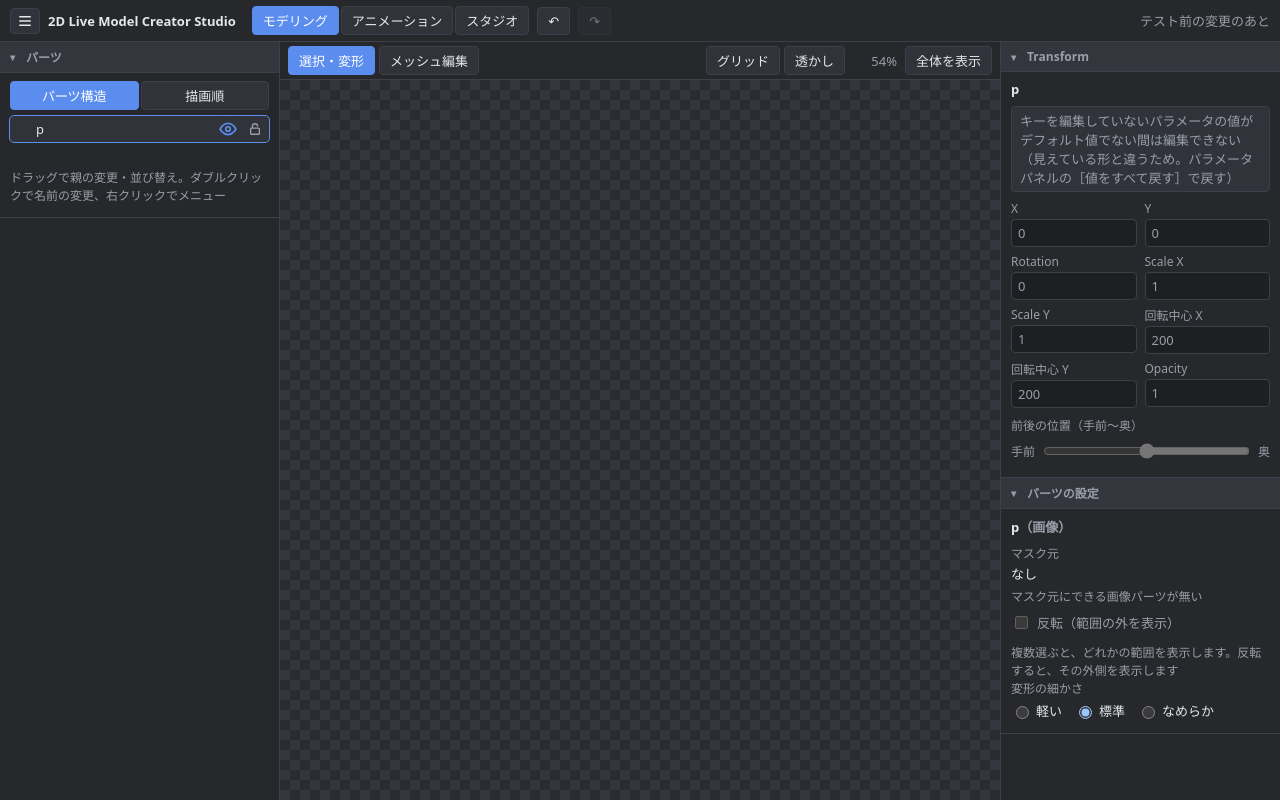
Scenario: カード61: 「軽い」を選ぶときのずれの量 › 取り消すと、メッシュ・キー・Undo の履歴を変えない（キャンセルのボタンでも Esc でも）
# キャンセルのボタン
Step 1. Click the radio button labelled "軽い" → (1022, 712), box [1016,706,1029,718]
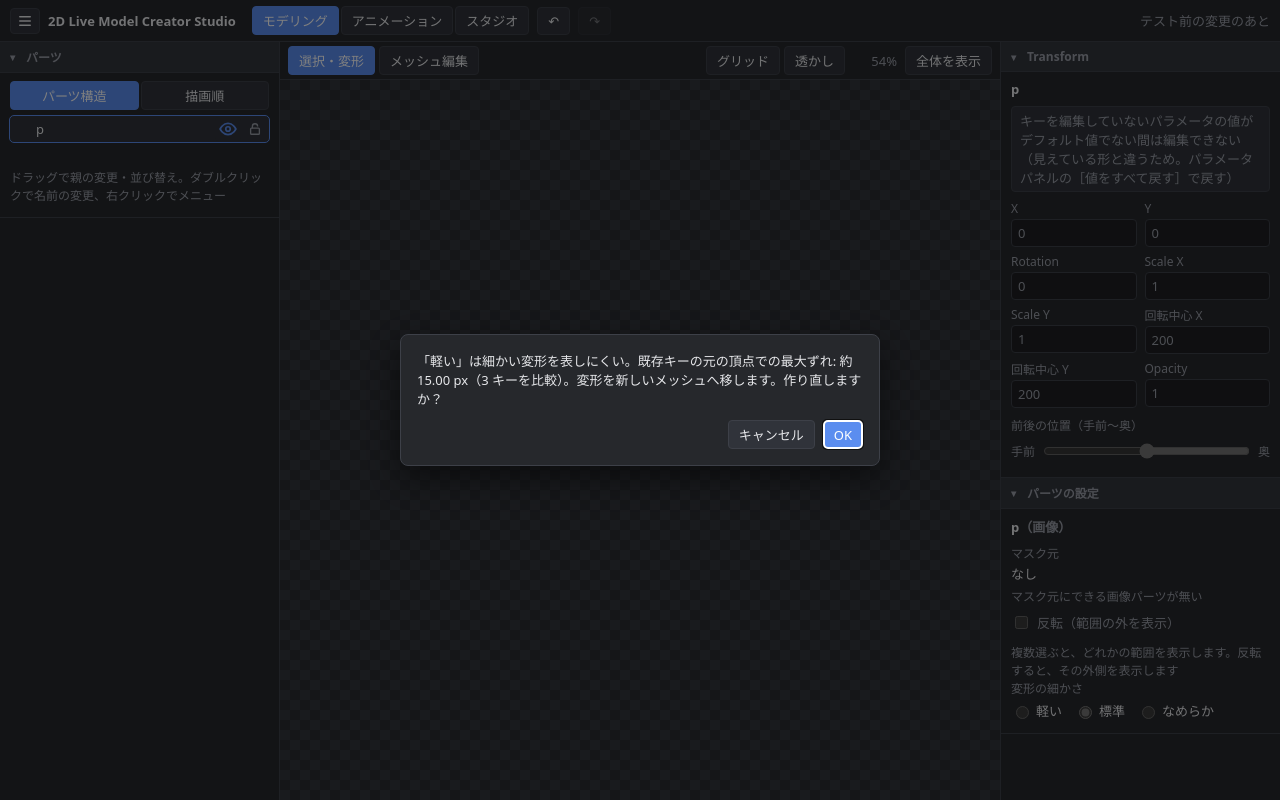
Step 2. Click the button "キャンセル" → (771, 434), box [728,420,815,449]
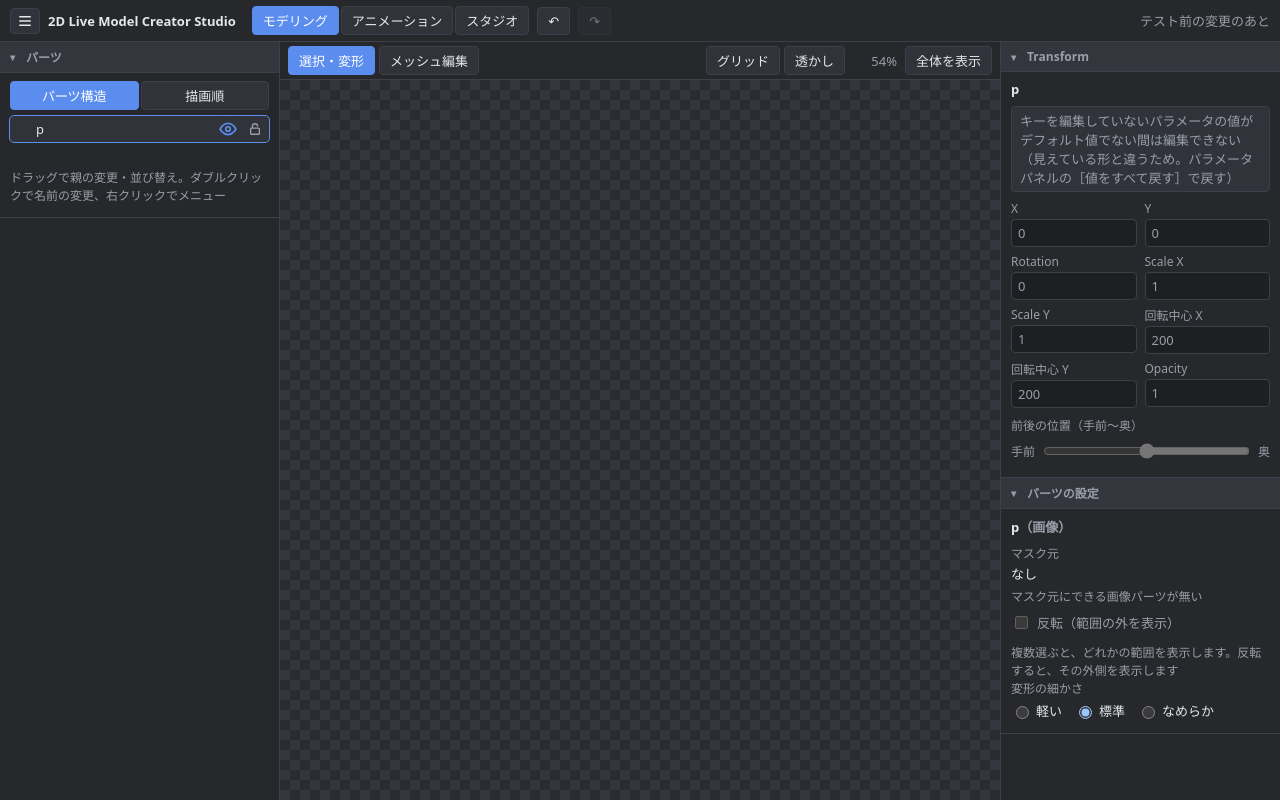
Expected: the radio button labelled "軽い" is enabled
Expected: the dialog is gone
# Esc（もう一度選ぶと、同じずれが出る）
Step 3. Click the radio button labelled "軽い" → (1022, 712), box [1016,706,1029,718]
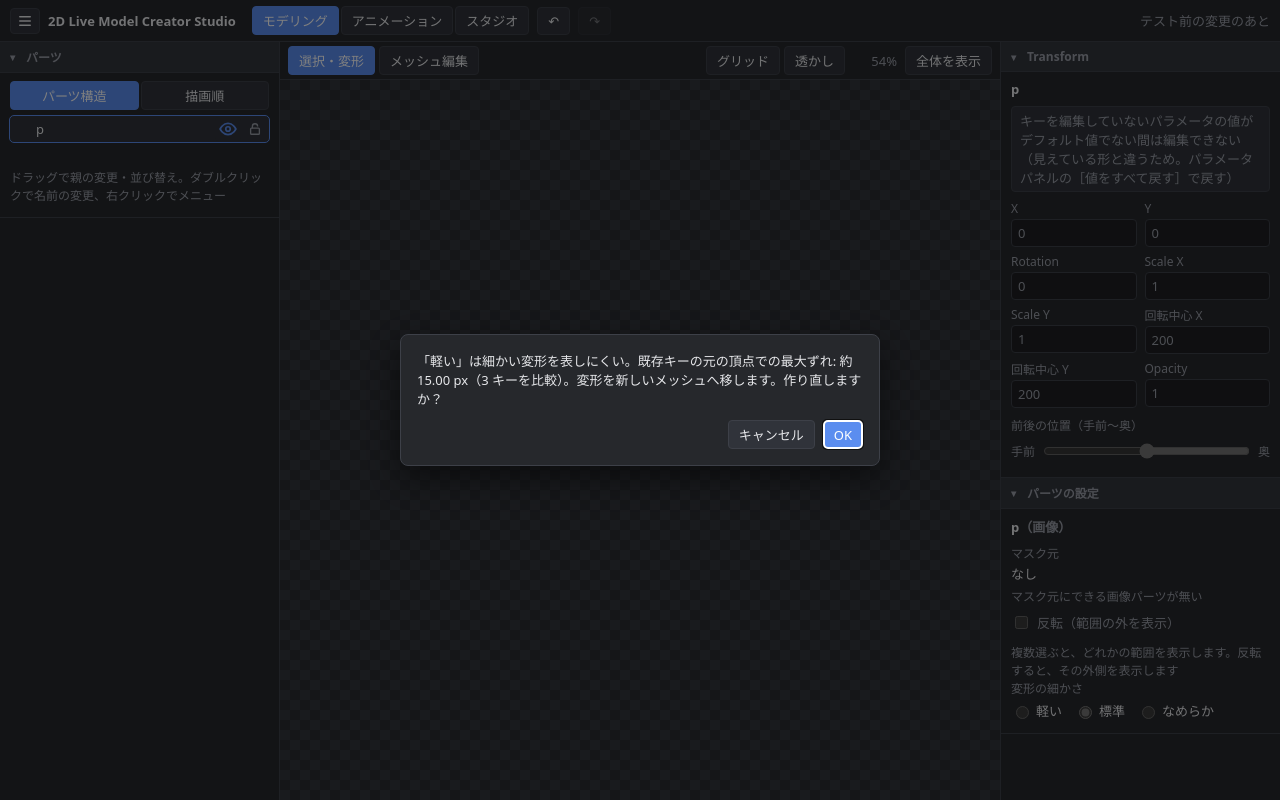
Step 4. Press Escape in the dialog, box [400,334,880,466]
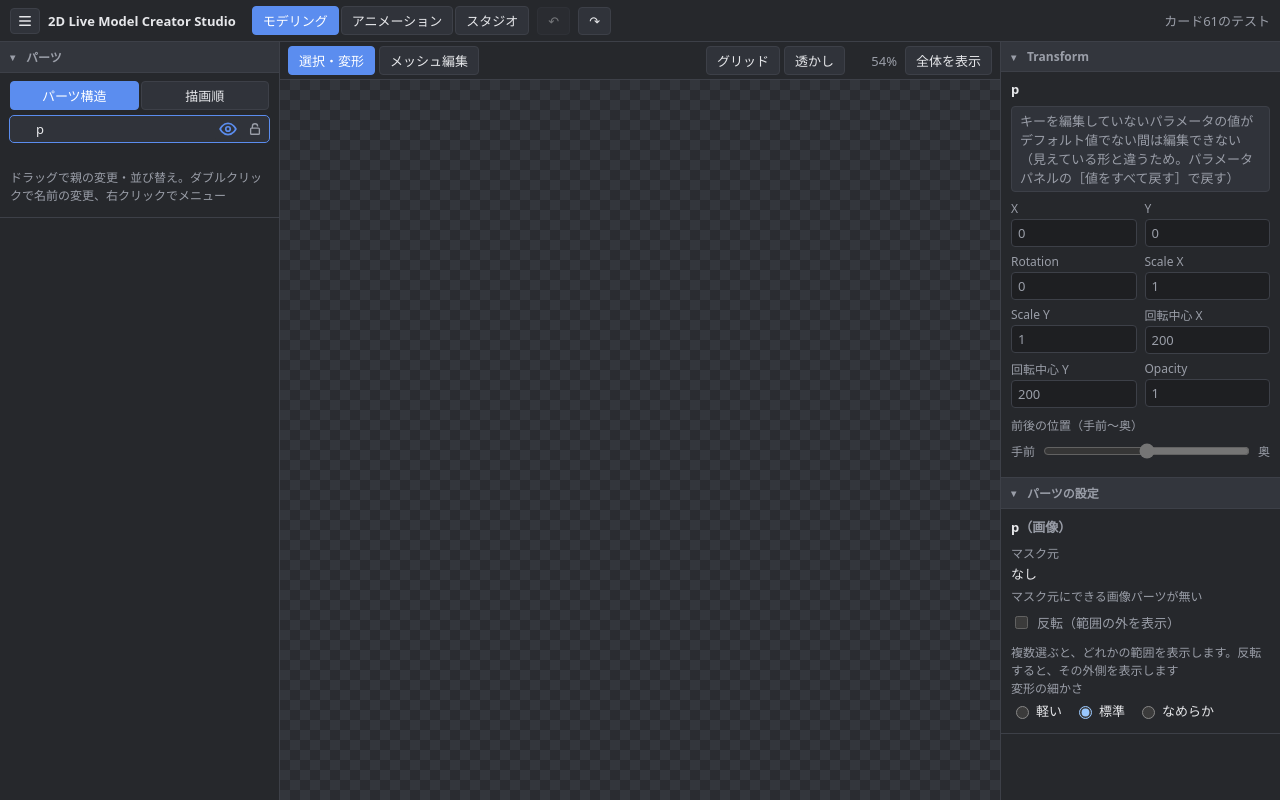
Expected: the radio button labelled "軽い" is enabled, [1016,706,1029,718]
Expected: the dialog is gone
